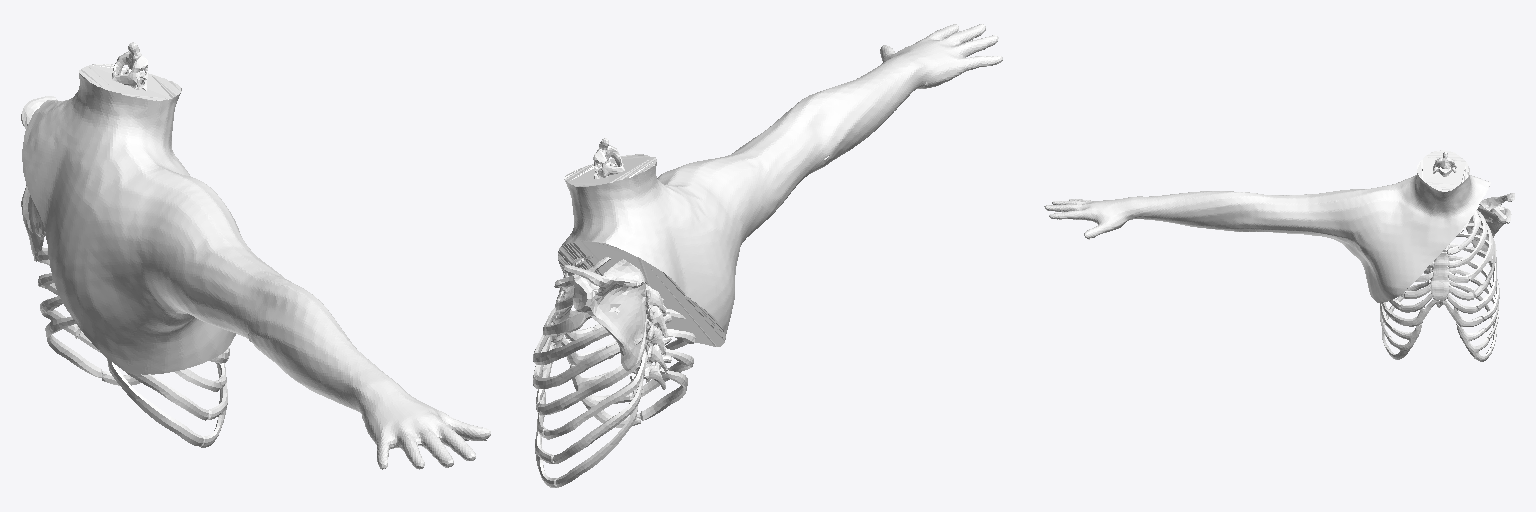
The robot description file, URDF, robot "human_arm":
<?xml version="1.0" encoding="utf-8"?>
<!-- This URDF was automatically created by SolidWorks to URDF Exporter! Originally created by [author] ([email redacted]) 
     Commit Version: 1.6.0-4-g7f85cfe  Build Version: 1.6.7995.38578
     For more information, please see http://wiki.ros.org/sw_urdf_exporter -->
<robot
  name="human_arm">
  <link
    name="base_link">
    <inertial>
      <origin
        xyz="0 0 0"
        rpy="0 0 0" />
       <mass value="0.001"/>  <!-- 最小质量 -->
    <inertia ixx="0.001" ixy="0.0" ixz="0.0" iyy="0.001" iyz="0.0" izz="0.001"/>
    </inertial>
    <visual>
      <origin
        xyz="0 0 0"
        rpy="0 0 0" />
      <geometry>
        <mesh
          filename="./meshes/base_link.STL" />
      </geometry>
      <material
        name="">
        <color
          rgba="1 1 1 1" />
      </material>
    </visual>
    <collision>
      <origin
        xyz="0 0 0"
        rpy="0 0 0" />
      <geometry>
        <mesh
          filename="./meshes/base_link.STL" />
      </geometry>
    </collision>
  </link>

  <link
    name="skin_body">
    <inertial>
      <origin
        xyz="0 0 0"
        rpy="0 0 0" />
        <mass value="0.001"/>  <!-- 最小质量 -->
    <inertia ixx="0.001" ixy="0.0" ixz="0.0" iyy="0.001" iyz="0.0" izz="0.001"/>
    </inertial>
    <visual>
      <origin
        xyz="0 0 0"
        rpy="0 0 0" />
      <geometry>
        <mesh
          filename="./meshes/skin_body.STL" />
      </geometry>
      <material
        name="">
        <color
          rgba="1 1 1 1" />
      </material>
    </visual>
    <collision>
      <origin
        xyz="0 0 0"
        rpy="0 0 0" />
      <geometry>
        <mesh
          filename="./meshes/skin_body.STL" />
      </geometry>
    </collision>
  </link>
  <joint
    name="Joint_body"
    type="fixed">
    <origin
      xyz="0 0 0"
      rpy="0 0 0" />
    <parent
      link="base_link" />
    <child
      link="skin_body" />
  </joint>

  <link
    name="skin_arm">
    <inertial>
      <origin
        xyz="0 0 0"
        rpy="0 0 0" />
   <mass value="0.001"/>  <!-- 最小质量 -->
    <inertia ixx="0.001" ixy="0.0" ixz="0.0" iyy="0.001" iyz="0.0" izz="0.001"/>
    </inertial>
    <visual>
      <origin
        xyz="0 0 0"
        rpy="0 0 0" />
      <geometry>
        <mesh
          filename="./meshes/skin_arm.STL" />
      </geometry>
      <material
        name="">
        <color
          rgba="1 1 1 1" />
      </material>
    </visual>
    <collision>
      <origin
        xyz="0 0 0"
        rpy="0 0 0" />
      <geometry>
        <mesh
          filename="./meshes/skin_arm.STL" />
      </geometry>
    </collision>
  </link>
  <joint
    name="Joint_arm"
    type="fixed">
    <origin
      xyz="0 0 0"
      rpy="0 0 0" />
    <parent
      link="base_link" />
    <child
      link="skin_arm" />
  </joint>

  <link
    name="Link1">
    <inertial>
      <origin
        xyz="2.38524477946811E-18 3.76760254938713E-18 1.45501069748078E-21"
        rpy="0 0 0" />
       <mass value="0.001"/>  <!-- 最小质量 -->
    <inertia ixx="0.001" ixy="0.0" ixz="0.0" iyy="0.001" iyz="0.0" izz="0.001"/>
    </inertial>
    <visual>
      <origin
        xyz="0 0 0"
        rpy="0 0 0" />
      <geometry>
        <mesh
          filename="./meshes/Link1.STL" />
      </geometry>
      <material
        name="">
        <color
          rgba="1 1 1 1" />
      </material>
    </visual>
    <collision>
      <origin
        xyz="0 0 0"
        rpy="0 0 0" />
      <geometry>
        <mesh
          filename="./meshes/Link1.STL" />
      </geometry>
    </collision>
  </link>
  <joint
    name="Joint1"
    type="revolute">
    <origin
      xyz="0 -0.16516 1.4186"
      rpy="-1.5708 1.5621 -1.5708" />
    <parent
      link="base_link" />
    <child
      link="Link1" />
    <axis
      xyz="0 0 1" />
    <limit
      lower="0"
      upper="0"
      effort="0"
      velocity="0" />
  </joint>
  <link
    name="Link2">
    <inertial>
      <origin
        xyz="-8.23871890102816E-22 -3.76760254938713E-18 2.60208521396521E-18"
        rpy="0 0 0" />
    <mass value="0.001"/>  <!-- 最小质量 -->
    <inertia ixx="0.001" ixy="0.0" ixz="0.0" iyy="0.001" iyz="0.0" izz="0.001"/>
    </inertial>
    <visual>
      <origin
        xyz="0 0 0"
        rpy="0 0 0" />
      <geometry>
        <mesh
          filename="./meshes/Link2.STL" />
      </geometry>
      <material
        name="">
        <color
          rgba="1 1 1 1" />
      </material>
    </visual>
    <collision>
      <origin
        xyz="0 0 0"
        rpy="0 0 0" />
      <geometry>
        <mesh
          filename="./meshes/Link2.STL" />
      </geometry>
    </collision>
  </link>
  <joint
    name="Joint2"
    type="revolute">
    <origin
      xyz="0 0 0"
      rpy="0 -1.5708 0" />
    <parent
      link="Link1" />
    <child
      link="Link2" />
    <axis
      xyz="0 0 1" />
    <limit
      lower="0"
      upper="0"
      effort="0"
      velocity="0" />
  </joint>
  <link
    name="Link3">
    <inertial>
      <origin
        xyz="3.92955925879339E-09 -0.00141857213859889 -0.000167659074445043"
        rpy="0 0 0" />
       <mass value="0.001"/>  <!-- 最小质量 -->
    <inertia ixx="0.001" ixy="0.0" ixz="0.0" iyy="0.001" iyz="0.0" izz="0.001"/>
    </inertial>
    <visual>
      <origin
        xyz="0 0 0"
        rpy="0 0 0" />
      <geometry>
        <mesh
          filename="./meshes/Link3.STL" />
      </geometry>
      <material
        name="">
        <color
          rgba="1 1 1 1" />
      </material>
    </visual>
    <collision>
      <origin
        xyz="0 0 0"
        rpy="0 0 0" />
      <geometry>
        <mesh
          filename="./meshes/Link3.STL" />
      </geometry>
    </collision>
  </link>
  <joint
    name="Joint3"
    type="revolute">
    <origin
      xyz="0 0 0"
      rpy="1.5795 0 0" />
    <parent
      link="Link2" />
    <child
      link="Link3" />
    <axis
      xyz="0 0 1" />
    <limit
      lower="0"
      upper="0"
      effort="0"
      velocity="0" />
  </joint>
  <link
    name="Link4">
    <inertial>
      <origin
        xyz="0 -5.42101086242752E-20 -2.16840434497101E-19"
        rpy="0 0 0" />
      <mass value="0.001"/>  <!-- 最小质量 -->
    <inertia ixx="0.001" ixy="0.0" ixz="0.0" iyy="0.001" iyz="0.0" izz="0.001"/>
    </inertial>
    <visual>
      <origin
        xyz="0 0 0"
        rpy="0 0 0" />
      <geometry>
        <mesh
          filename="./meshes/Link4.STL" />
      </geometry>
      <material
        name="">
        <color
          rgba="1 1 1 1" />
      </material>
    </visual>
    <collision>
      <origin
        xyz="0 0 0"
        rpy="0 0 0" />
      <geometry>
        <mesh
          filename="./meshes/Link4.STL" />
      </geometry>
    </collision>
  </link>
  <joint
    name="Joint4"
    type="revolute">
    <origin
      xyz="-5.4306E-02 -1.2019E-02 0.28548"
      rpy="-1.5708 0 0" />
    <parent
      link="Link3" />
    <child
      link="Link4" />
    <axis
      xyz="0 0 1" />
    <limit
      lower="0"
      upper="0"
      effort="0"
      velocity="0" />
  </joint>
  <link
    name="Link5">
    <inertial>
      <origin
        xyz="5.43098045350152E-05 -0.00140655339757588 -0.00045313592901777"
        rpy="0 0 0" />
   <mass value="0.001"/>  <!-- 最小质量 -->
    <inertia ixx="0.001" ixy="0.0" ixz="0.0" iyy="0.001" iyz="0.0" izz="0.001"/>
    </inertial>
    <visual>
      <origin
        xyz="0 0 0"
        rpy="0 0 0" />
      <geometry>
        <mesh
          filename="./meshes/Link5.STL" />
      </geometry>
      <material
        name="">
        <color
          rgba="1 1 1 1" />
      </material>
    </visual>
    <collision>
      <origin
        xyz="0 0 0"
        rpy="0 0 0" />
      <geometry>
        <mesh
          filename="./meshes/Link5.STL" />
      </geometry>
    </collision>
  </link>
  <joint
    name="Joint5"
    type="revolute">
    <origin
      xyz="0 0 0"
      rpy="1.5708 0 0" />
    <parent
      link="Link4" />
    <child
      link="Link5" />
    <axis
      xyz="0 0 1" />
    <limit
      lower="0"
      upper="0"
      effort="0"
      velocity="0" />
  </joint>
  <link
    name="Link6">
    <inertial>
      <origin
        xyz="0 2.16840434497101E-19 -6.7762635780344E-21"
        rpy="0 0 0" />
     <mass value="0.001"/>  <!-- 最小质量 -->
    <inertia ixx="0.001" ixy="0.0" ixz="0.0" iyy="0.001" iyz="0.0" izz="0.001"/>
    </inertial>
    <visual>
      <origin
        xyz="0 0 0"
        rpy="0 0 0" />
      <geometry>
        <mesh
          filename="./meshes/Link6.STL" />
      </geometry>
      <material
        name="">
        <color
          rgba="1 1 1 1" />
      </material>
    </visual>
    <collision>
      <origin
        xyz="0 0 0"
        rpy="0 0 0" />
      <geometry>
        <mesh
          filename="./meshes/Link6.STL" />
      </geometry>
    </collision>
  </link>
  <joint
    name="Joint6"
    type="revolute">
    <origin
      xyz="0 0 0.2457"
      rpy="-1.5708 1.5359 -1.578" />
    <parent
      link="Link5" />
    <child
      link="Link6" />
    <axis
      xyz="0 0 1" />
    <limit
      lower="0"
      upper="0"
      effort="0"
      velocity="0" />
  </joint>
  <link
    name="Link7">
    <inertial>
      <origin
        xyz="0.000698836307538504 -5.00691646885942E-05 -0.0014150182333836"
        rpy="0 0 0" />
    <mass value="0.001"/>  <!-- 最小质量 -->
    <inertia ixx="0.001" ixy="0.0" ixz="0.0" iyy="0.001" iyz="0.0" izz="0.001"/>
    </inertial>
    <visual>
      <origin
        xyz="0 0 0"
        rpy="0 0 0" />
      <geometry>
        <mesh
          filename="./meshes/Link7.STL" />
      </geometry>
      <material
        name="">
        <color
          rgba="1 1 1 1" />
      </material>
    </visual>
    <collision>
      <origin
        xyz="0 0 0"
        rpy="0 0 0" />
      <geometry>
        <mesh
          filename="./meshes/Link7.STL" />
      </geometry>
    </collision>
  </link>
  <joint
    name="Joint7"
    type="revolute">
    <origin
      xyz="0 0 0"
      rpy="-1.5359 0.0349 0" />
    <parent
      link="Link6" />
    <child
      link="Link7" />
    <axis
      xyz="0 0 1" />
    <limit
      lower="0"
      upper="0"
      effort="0"
      velocity="0" />
  </joint>
</robot>

--- Render facts (derived) ---
Views: 3 orthographic renders of the robot side by side, from view 1: azimuth 30°, elevation 25°; view 2: azimuth 150°, elevation 25°; view 3: azimuth 270°, elevation 25°.
Model human_arm with 10 links and 9 joints (7 revolute, 2 fixed), rooted at base_link, posed all joints at 0.
Links seen in each view (by area): view 1: skin_arm, base_link; view 2: skin_arm, base_link; view 3: skin_arm, base_link.
Boxes of the visible links, x1,y1,x2,y2 form: skin_arm: (22, 64, 490, 469); base_link: (21, 42, 229, 447); skin_arm: (558, 24, 1002, 346); base_link: (533, 138, 695, 487); skin_arm: (1044, 150, 1490, 302); base_link: (1380, 152, 1514, 361).
Size in the robot's own frame: 0.25 by 1.06 by 0.4999 metres.
Meshes: 10 distinct files referenced, 9 mesh visuals loaded (9 binary STL); not drawn: 1 (reference not matched to a file when rendering).
